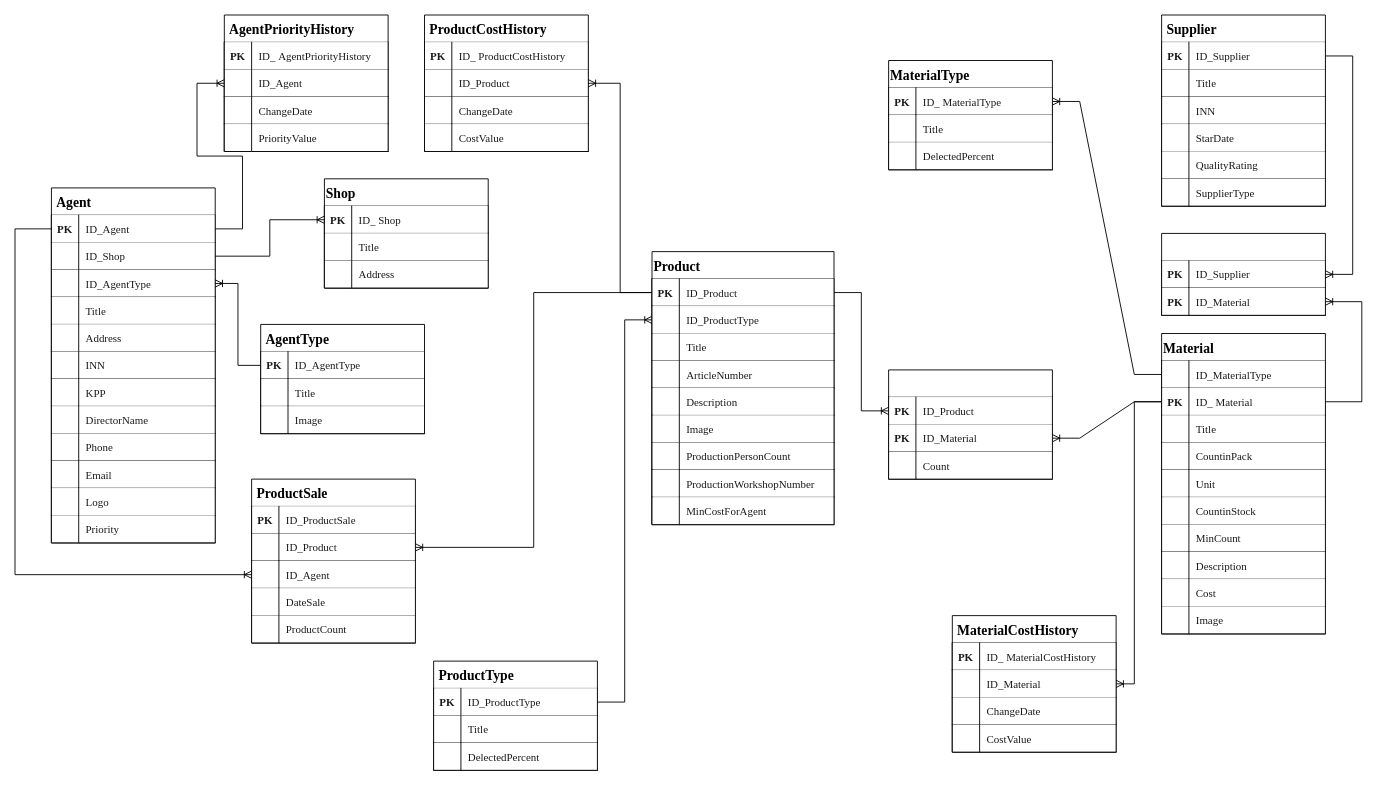
The diagram is 1377 pixels wide and 785 high, and some of its shapes have lost their labels. Here are the shapes that lost their labels. From the top down, the box of each, then its label:
(1161, 233, 1325, 315): MaterialSupplier
(888, 369, 1052, 479): ProductMaterial
